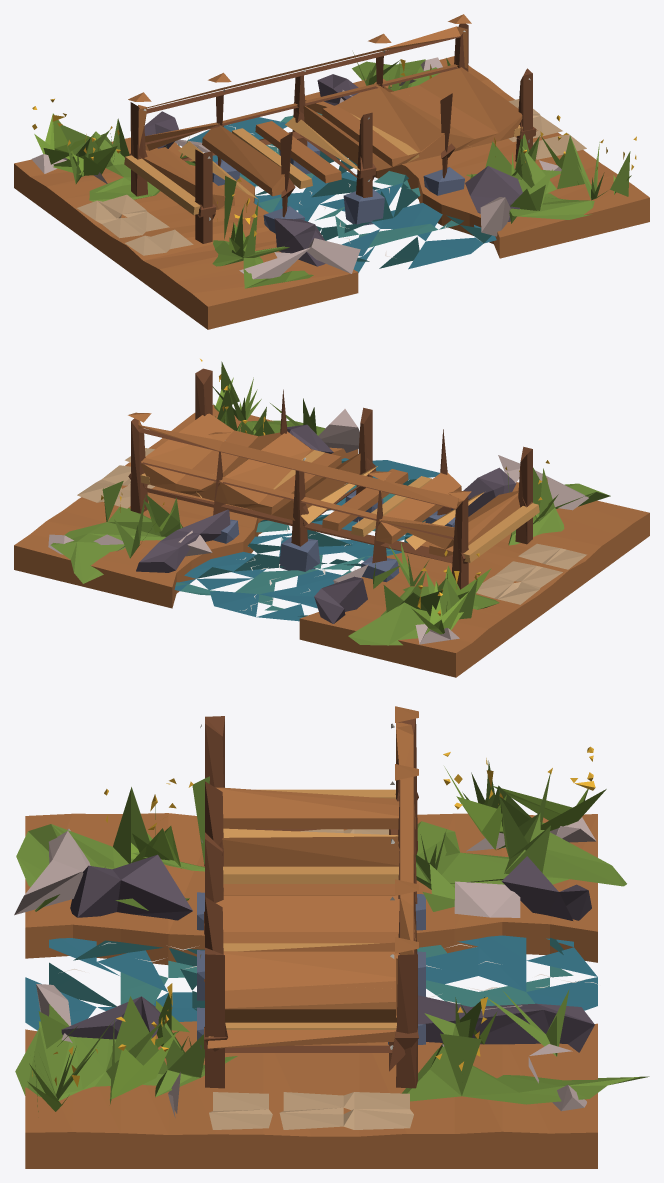
File: kit.creek-bridge-wood.lod1.glb
The picture shows the model from 3 angles, top to bottom: view 1: azimuth 30°, elevation 25°; view 2: azimuth 150°, elevation 25°; view 3: azimuth 270°, elevation 25°; orthographic projection. The views are drawn at different scales.
Bounding box in the file's own units: 7.93 × 2.11 × 6.66.
